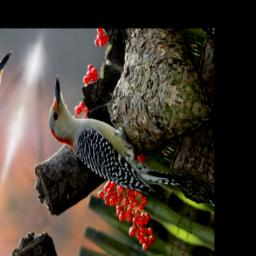Woodpecker: (35, 68, 206, 220)
